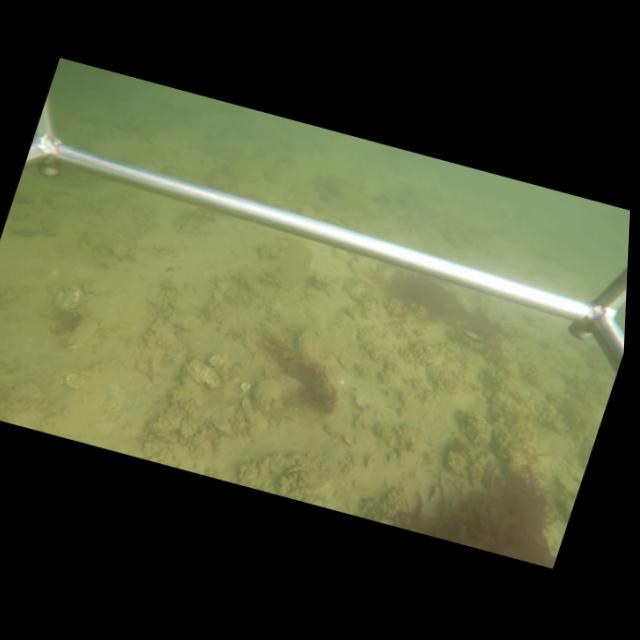Oyster-Closed: (206, 414, 236, 440)
Oyster-Indeterminate: (248, 370, 308, 423)
Oyster-Open: (460, 329, 483, 353)
